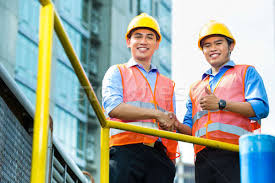helmet: (122, 15, 171, 41), (191, 20, 236, 40)
vest: (117, 64, 177, 154), (191, 76, 260, 150)
